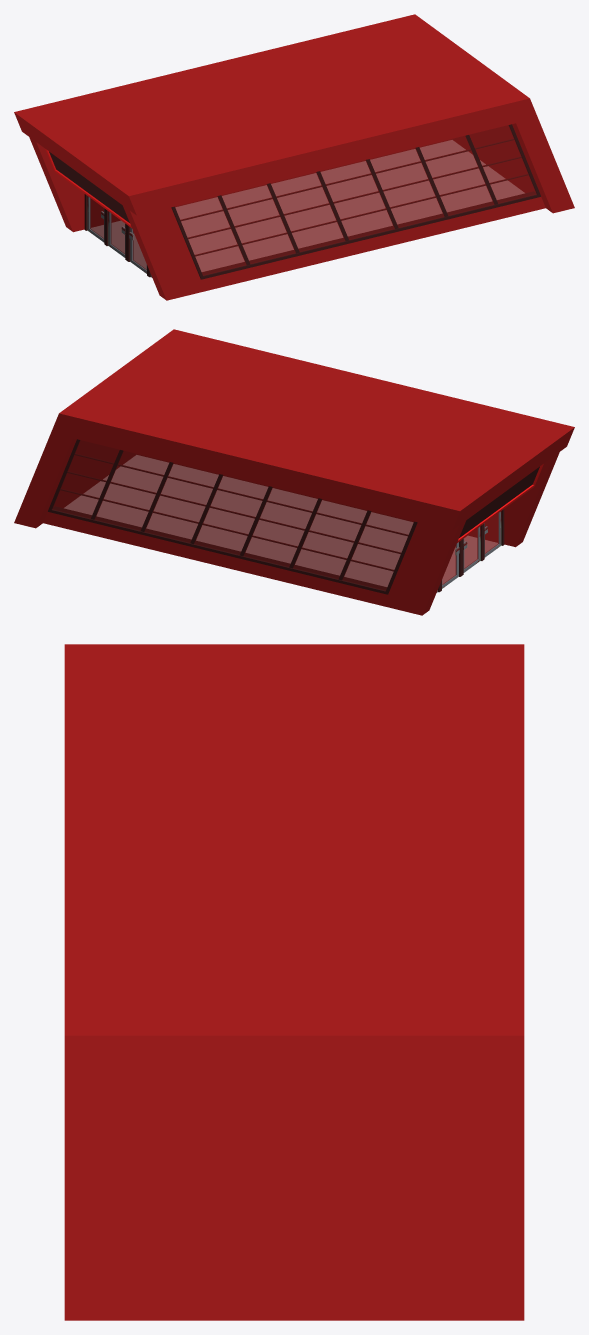
The model's file is SM_SubwayDown_v01.FBX.
3 views of the same model, one above another, from view 1: azimuth 30°, elevation 25°; view 2: azimuth 150°, elevation 25°; view 3: azimuth 270°, elevation 25° (orthographic). The views are drawn at different scales.
Visible parts, largest first — view 1: SubwayDown_v01; view 2: SubwayDown_v01; view 3: SubwayDown_v01.
Part boxes in pixels (x1,y1,x2,y2): SubwayDown_v01: (14,14,574,300); SubwayDown_v01: (14,329,574,615); SubwayDown_v01: (64,644,524,1320).
Bounding box in the file's own units: 17.41 × 4.5 × 7.77.
